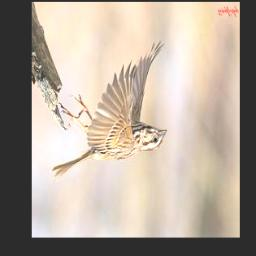Sparrow: (48, 39, 167, 188)
